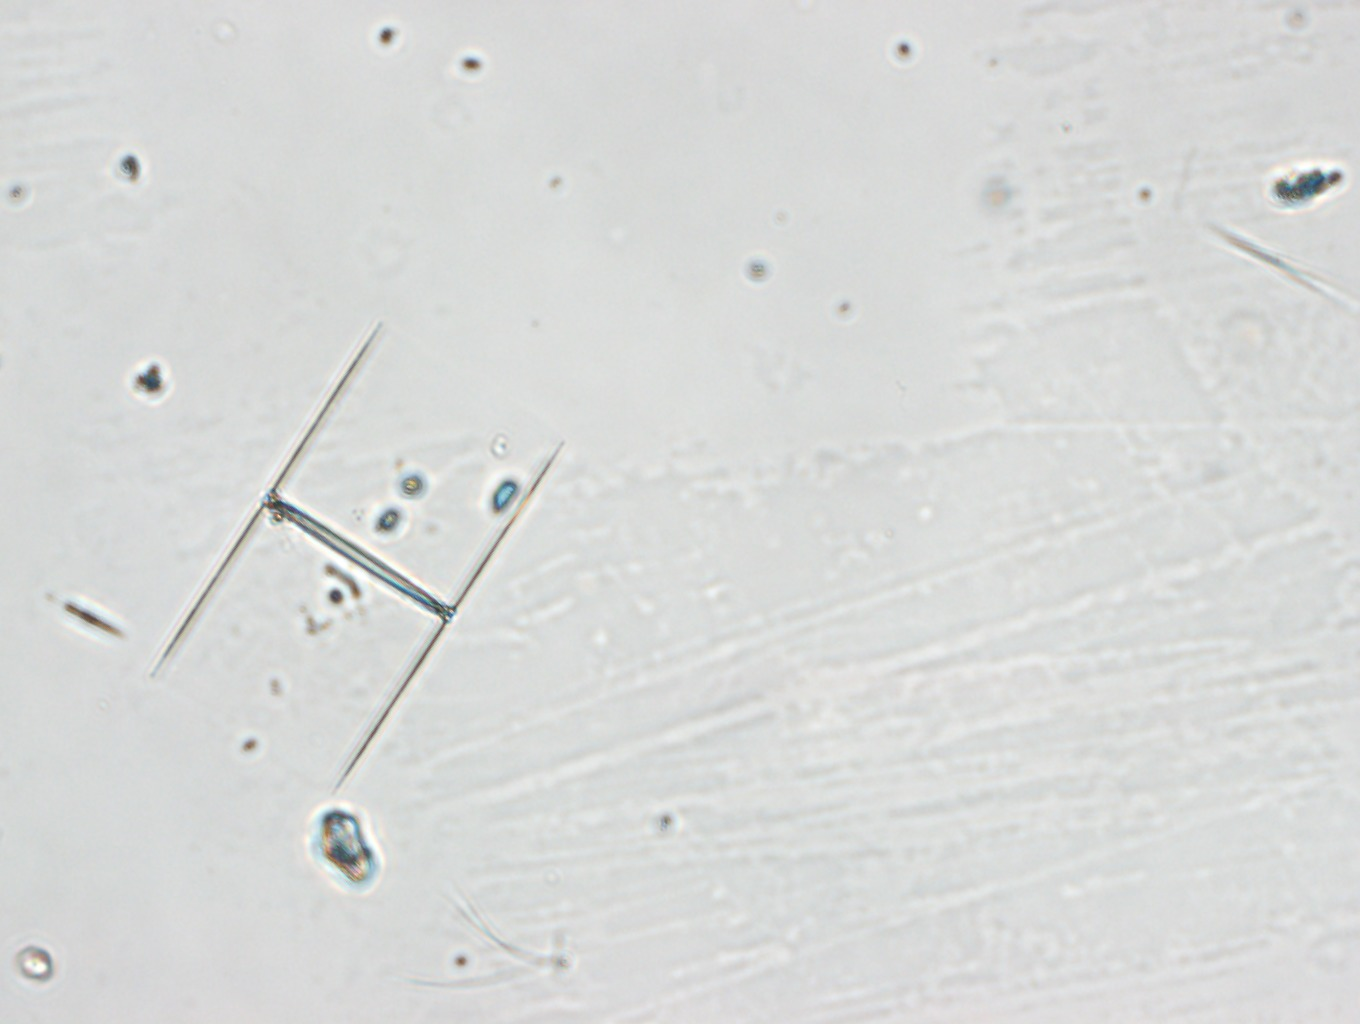guinardia flaccida: (151, 321, 562, 799)
